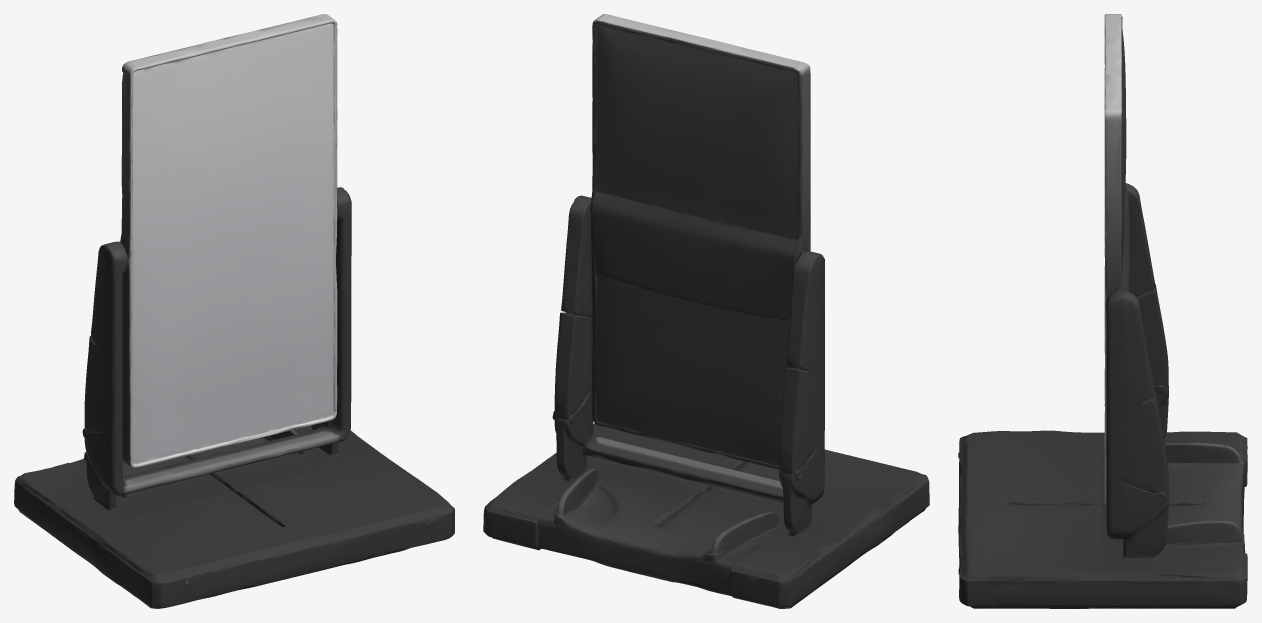
Rendered from tripo_convert_7680cfb0-af3f-4ec0-a957-6d4bd1480062.fbx.
The picture shows the model from 3 angles, left to right: view 1: azimuth 30°, elevation 25°; view 2: azimuth 150°, elevation 25°; view 3: azimuth 270°, elevation 25°; orthographic projection. The views are drawn at different scales.
Visible parts, largest first — view 1: tripo_node_7680cfb0; view 2: tripo_node_7680cfb0; view 3: tripo_node_7680cfb0.
Boxes of the visible parts, box(x1,y1,x2,y2) form: tripo_node_7680cfb0: box(14, 14, 454, 608); tripo_node_7680cfb0: box(483, 14, 929, 608); tripo_node_7680cfb0: box(958, 14, 1247, 608).
Bounding box in the file's own units: 0.6529 × 0.9804 × 0.5406.
1 material, 1 textured.
